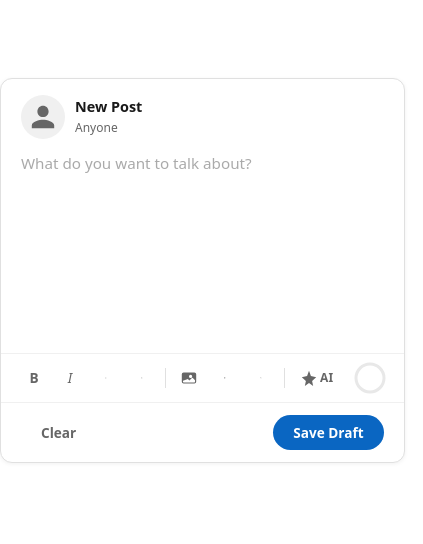
Test: PostComposer › toggles first comment panel when icon is clicked
The image size is (423, 544).
Later steps or results of the test are not shown.
Expected: the field with placeholder "Add a first comment" is not shown
Note: Click to show
Click the button titled "First comment" at [225, 378], box [208, 360, 242, 394]
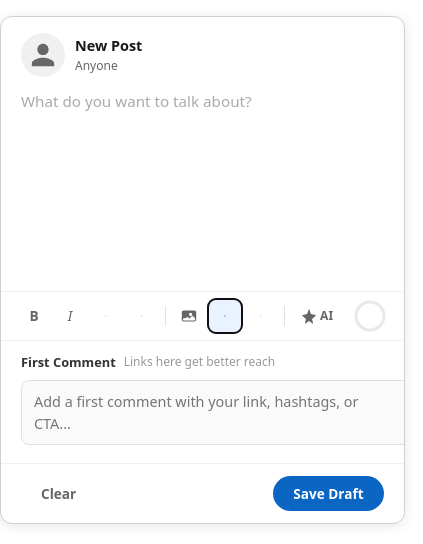
Result: the text box with placeholder "Add a first comment with your link, hashtags, or CTA..." is shown at [21, 380, 405, 445]
Result: the text "Links here get better reach" is shown at [124, 353, 275, 371]
